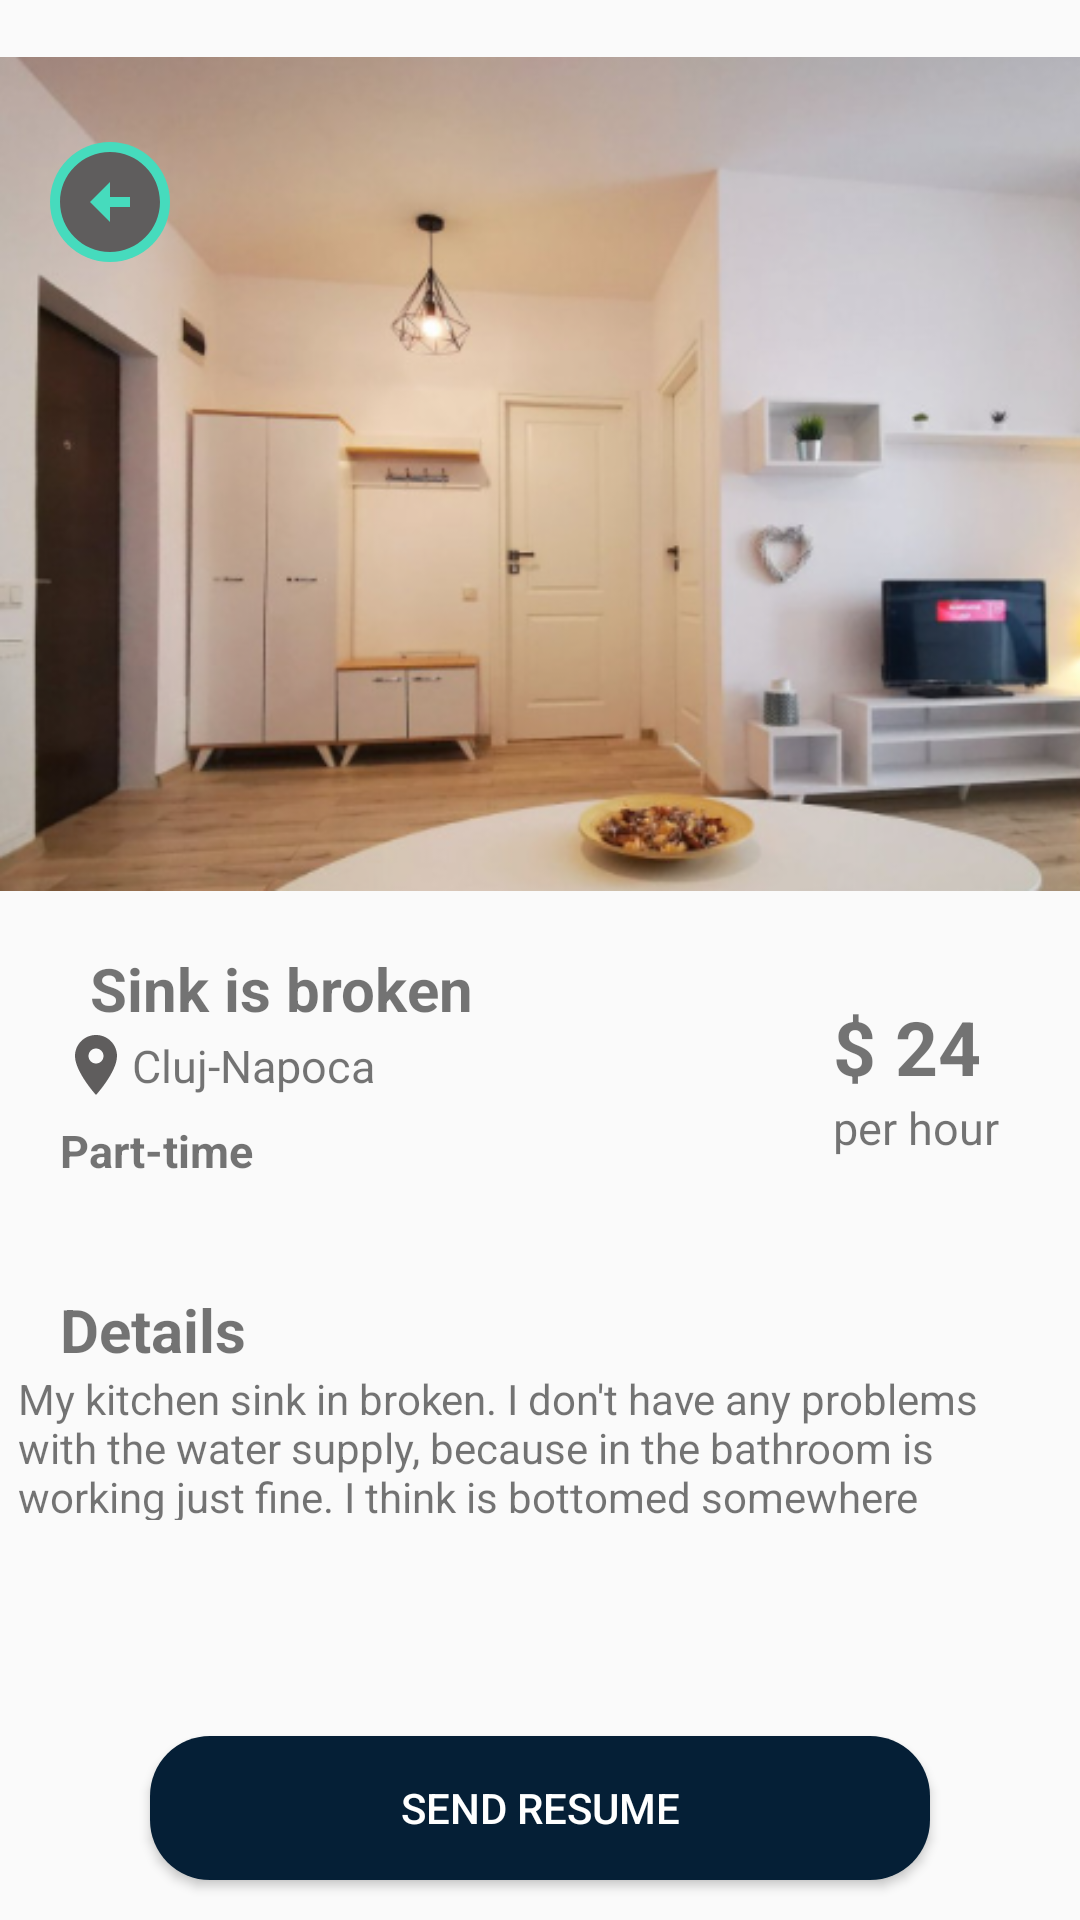

Screen size 1080×1920. Icon name, then its box in pixels as (x1, y1, x2, y2):
location: (75, 1035, 117, 1095)
